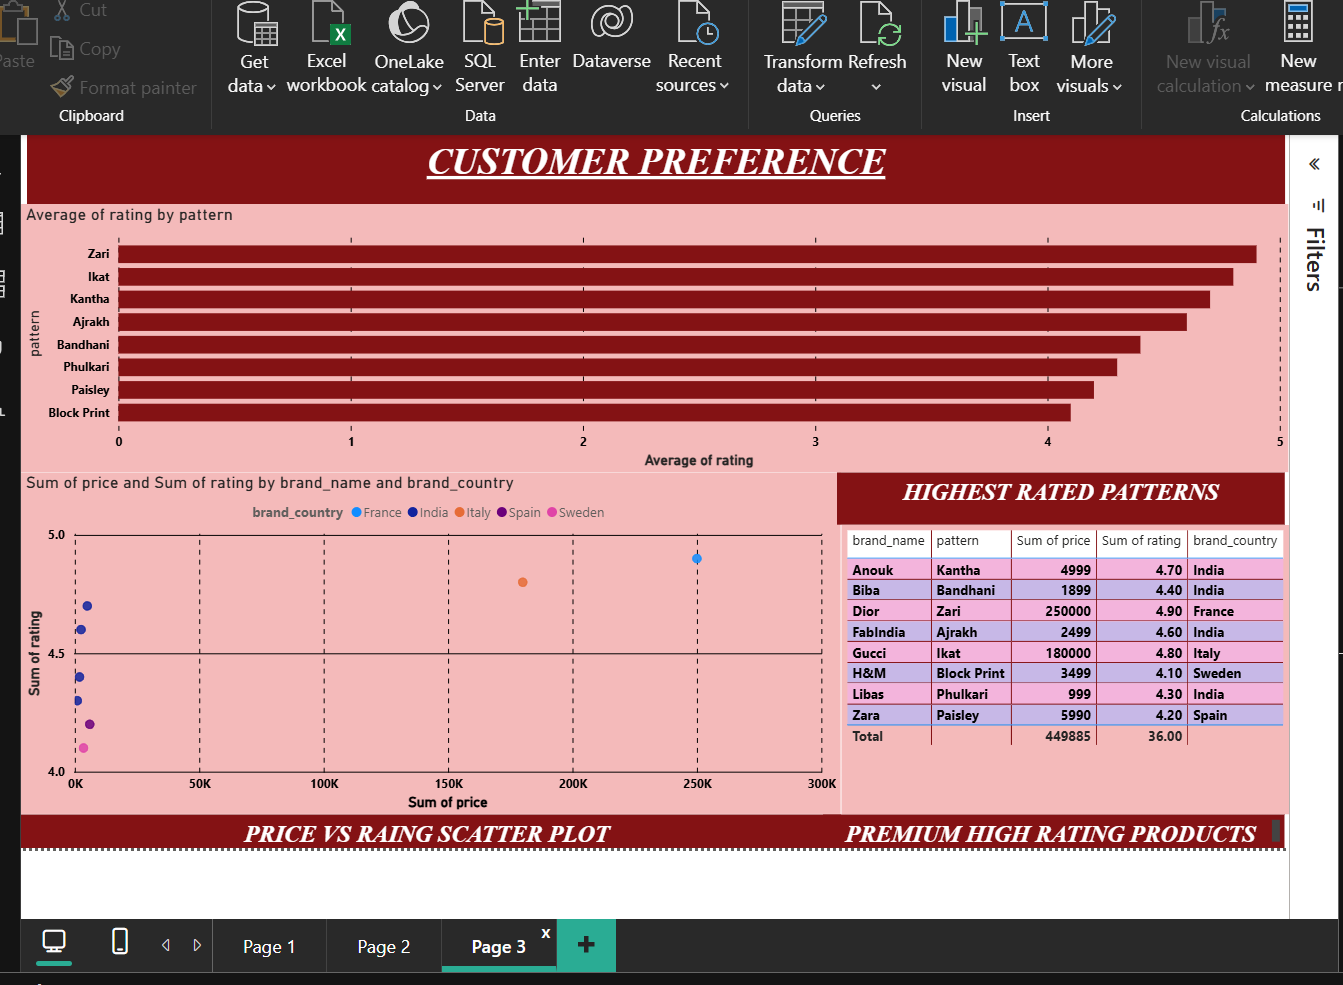

What the dashboard file says about the page in this screenshot:
{"tool":"powerbi","page":{"name":"Page 3","canvas":[1280,720],"ordinal":2},"visuals":[{"type":"textbox","box":[5.7,0,1269.9,69.9],"z":0},{"type":"clusteredBarChart","fields":{"Category":["public textile_designs.pattern"],"Y":["Avg(public textile_designs.rating)"]},"box":[0,70.1,1279.4,270.7],"z":1000},{"type":"scatterChart","fields":{"X":["Sum(public textile_designs.price)"],"Y":["Sum(public textile_designs.rating)"],"Category":["public textile_designs.brand_name"],"Series":["public textile_designs.brand_country"]},"box":[0,340.8,827.6,344.7],"z":2000},{"type":"tableEx","fields":{"Values":["public textile_designs.brand_name","public textile_designs.pattern","Sum(public textile_designs.price)","Sum(public textile_designs.rating)","public textile_designs.brand_country"]},"box":[827.6,393.3,451.8,292.1],"z":3000},{"type":"textbox","box":[823.7,340.8,451.8,52.6],"z":4000},{"type":"textbox","box":[0,685.4,827.6,35.1],"z":5000},{"type":"textbox","box":[810.1,685.4,465.4,35.1],"z":5001}]}

Visuals, with their boxes on the page's 1280x720 design canvas (x1, y1, x2, y2). These are canvas units, not pixel positions in the 1343x985 screenshot, which may show the page scaled, cropped or inside an application window:
textbox: region(6, 0, 1276, 70)
clusteredBarChart - public textile_designs.pattern x Avg(public textile_designs.rating): region(0, 70, 1279, 341)
scatterChart - Sum(public textile_designs.price) x Sum(public textile_designs.rating): region(0, 341, 828, 686)
tableEx - public textile_designs.brand_name x public textile_designs.pattern: region(828, 393, 1279, 685)
textbox: region(824, 341, 1276, 393)
textbox: region(0, 685, 828, 720)
textbox: region(810, 685, 1276, 720)
